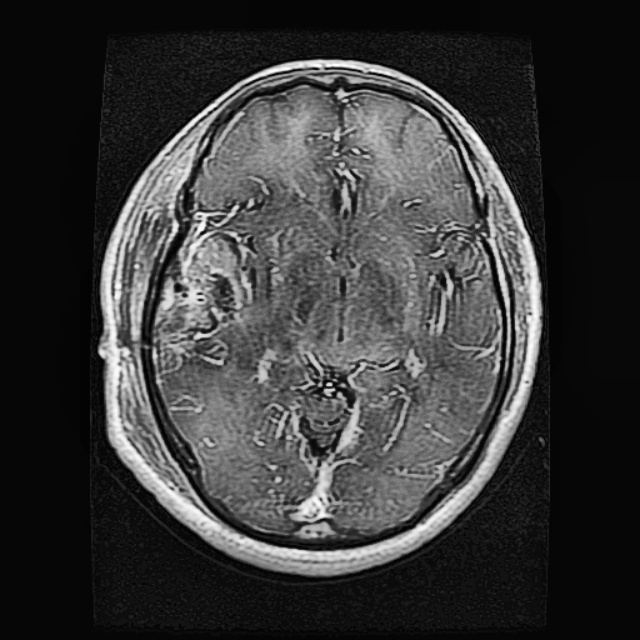Pituitary: (153, 229, 267, 379)
